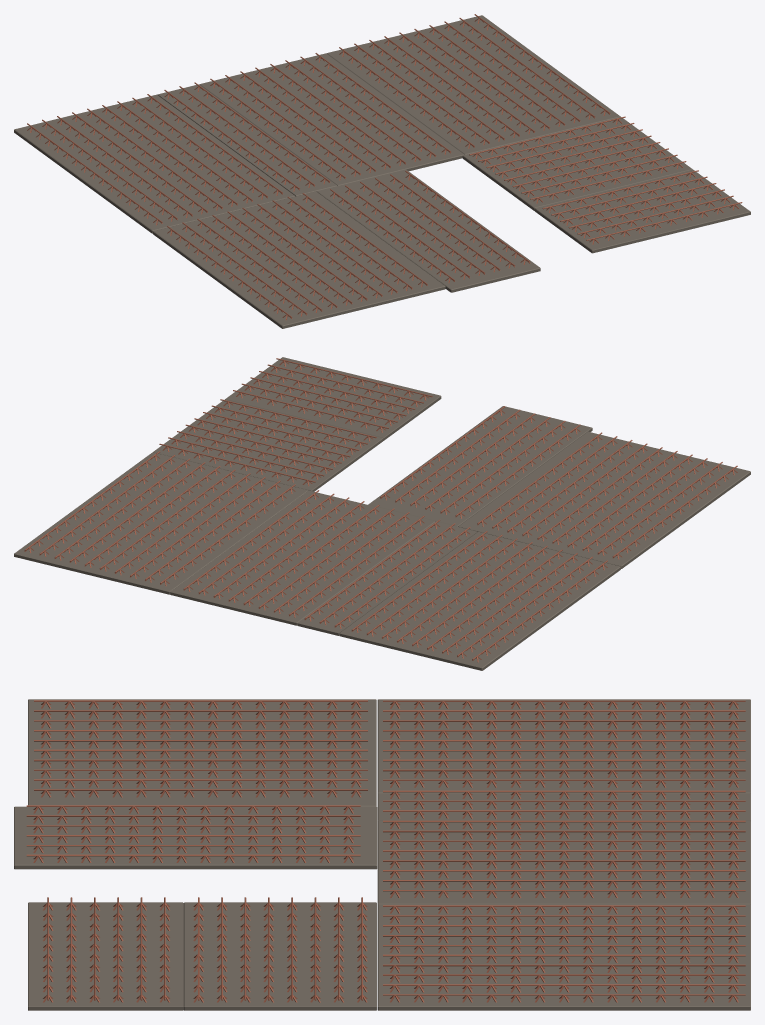
Rendered from Filigrandecke.fbx.
The picture shows the model from 3 angles, top to bottom: view 1: azimuth 30°, elevation 25°; view 2: azimuth 150°, elevation 25°; view 3: azimuth 270°, elevation 25°; orthographic projection. The views are drawn at different scales.
Parts seen in each view (by area): view 1: Decke 8, Decke 3, Decke 7, Decke 5, Decke 9, Decke 2, Decke1, Decke 6; view 2: Decke 3, Decke 8, Decke 7, Decke 5, Decke 9, Decke 2, Decke1, Decke 6; view 3: Decke 3, Decke 8, Decke 7, Decke 5, Decke 9, Decke 2, Decke1, Decke 6.
Boxes of the visible parts, x1,y1,x2,y2 form: Decke 8: (153,191,445,328); Decke 3: (326,14,620,154); Decke 7: (14,94,295,233); Decke 5: (199,53,464,185); Decke 9: (316,169,540,292); Decke 2: (462,116,692,210); Decke1: (534,169,750,253); Decke 6: (157,82,336,196); Decke 3: (14,451,308,594); Decke 8: (458,431,750,568); Decke 7: (339,531,620,670); Decke 5: (170,490,435,625); Decke 9: (368,406,592,526); Decke 2: (153,399,383,491); Decke1: (225,357,441,440); Decke 6: (297,519,477,635); Decke 3: (377,904,750,1010); Decke 8: (28,699,376,806); Decke 7: (377,699,750,793); Decke 5: (377,820,750,904); Decke 9: (14,805,377,869); Decke 2: (183,897,376,1010); Decke1: (28,897,183,1010); Decke 6: (377,790,750,820).
Size of the model in its own units: 935 by 14.6 by 946.
